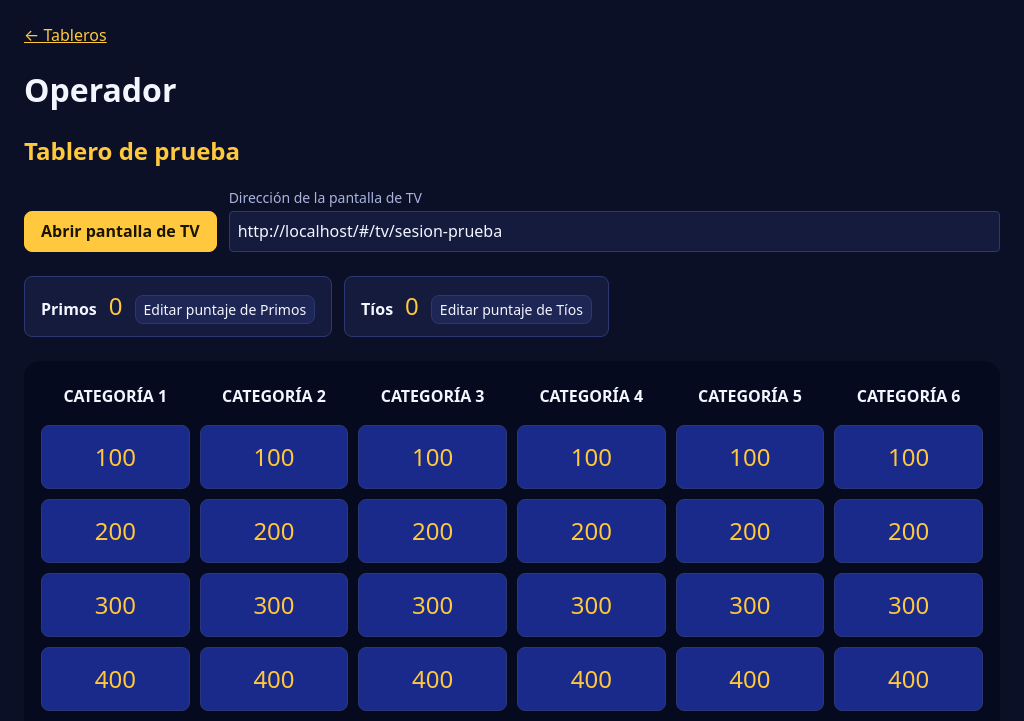
Test: pantalla de TV desde el operador › avisa que se deben permitir ventanas emergentes si el navegador la bloquea
Check: the list named "Puntajes" is shown, box [24, 276, 609, 337]
Click the button "Abrir pantalla de TV" at (120, 231), box [24, 211, 217, 252]
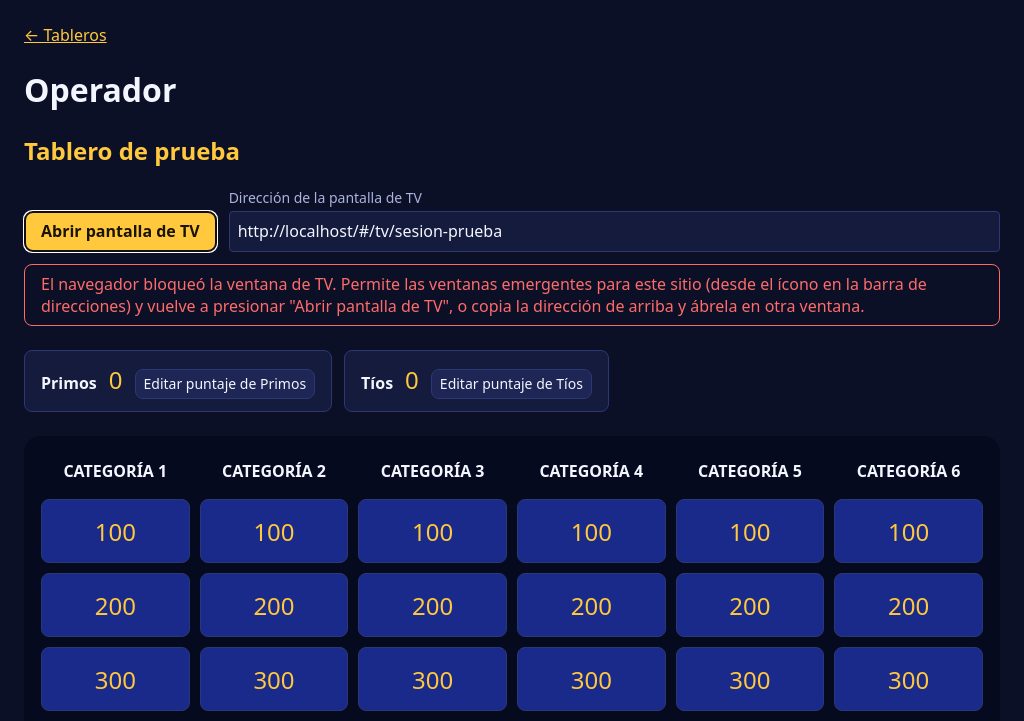
Check: the message shows "Permite las ventanas emergentes para este sitio", box [41, 272, 927, 317]
